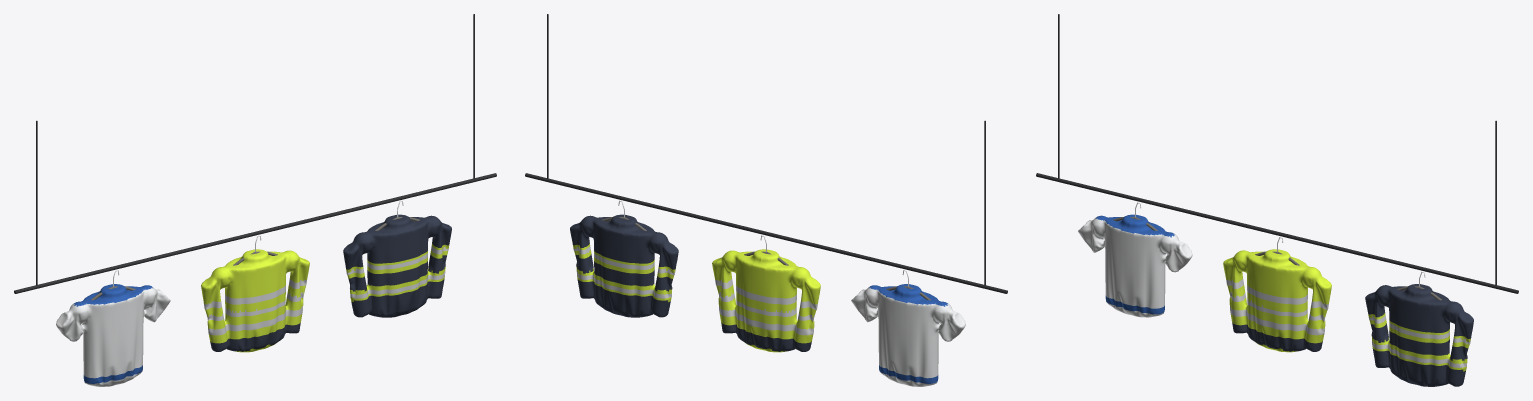
The model's file is divise-stoffa.glb.
3 views of the same model, side by side, from view 1: azimuth 30°, elevation 25°; view 2: azimuth 150°, elevation 25°; view 3: azimuth 330°, elevation 25° (orthographic).
Visible parts, largest first — view 1: divisa_118, divisa_vvf, divisa_oss, divise_barra; view 2: divisa_vvf, divisa_118, divisa_oss, divise_barra; view 3: divisa_118, divisa_vvf, divisa_oss, divise_barra.
Boxes of the visible parts, x1,y1,x2,y2 form: divisa_118: (201,235,309,352); divisa_vvf: (343,200,451,317); divisa_oss: (56,270,170,386); divise_barra: (14,14,496,293); divisa_vvf: (570,200,678,317); divisa_118: (712,235,820,352); divisa_oss: (851,270,965,386); divise_barra: (525,14,1007,293); divisa_118: (1223,237,1331,352); divisa_vvf: (1365,272,1473,386); divisa_oss: (1078,202,1192,317); divise_barra: (1036,14,1518,293).
Bounding box in the file's own units: 4.4 × 2.46 × 0.2591.
8 materials, 1 textured.
